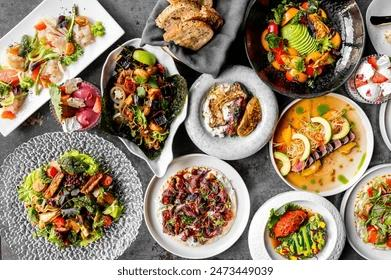Braised Crucian Carp: (1, 130, 143, 260), (100, 36, 189, 174), (244, 0, 365, 100), (142, 152, 248, 258), (269, 93, 373, 195), (183, 64, 277, 161), (142, 0, 252, 77), (248, 191, 346, 260)
